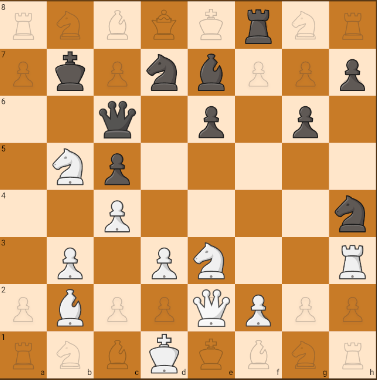bb: (142, 52, 183, 94), (193, 52, 229, 94)
bk: (46, 49, 89, 95)
bp: (331, 49, 372, 93), (285, 98, 326, 141), (99, 146, 137, 188), (196, 101, 231, 140)
bq: (96, 99, 138, 141)
br: (238, 3, 278, 46)
wk: (144, 331, 186, 378)
wn: (50, 147, 90, 188), (192, 241, 227, 282)
wp: (142, 240, 185, 282), (49, 239, 91, 280), (96, 195, 135, 236), (238, 288, 277, 328)
wq: (188, 286, 233, 329), (52, 285, 88, 329)
wr: (337, 240, 370, 284)
